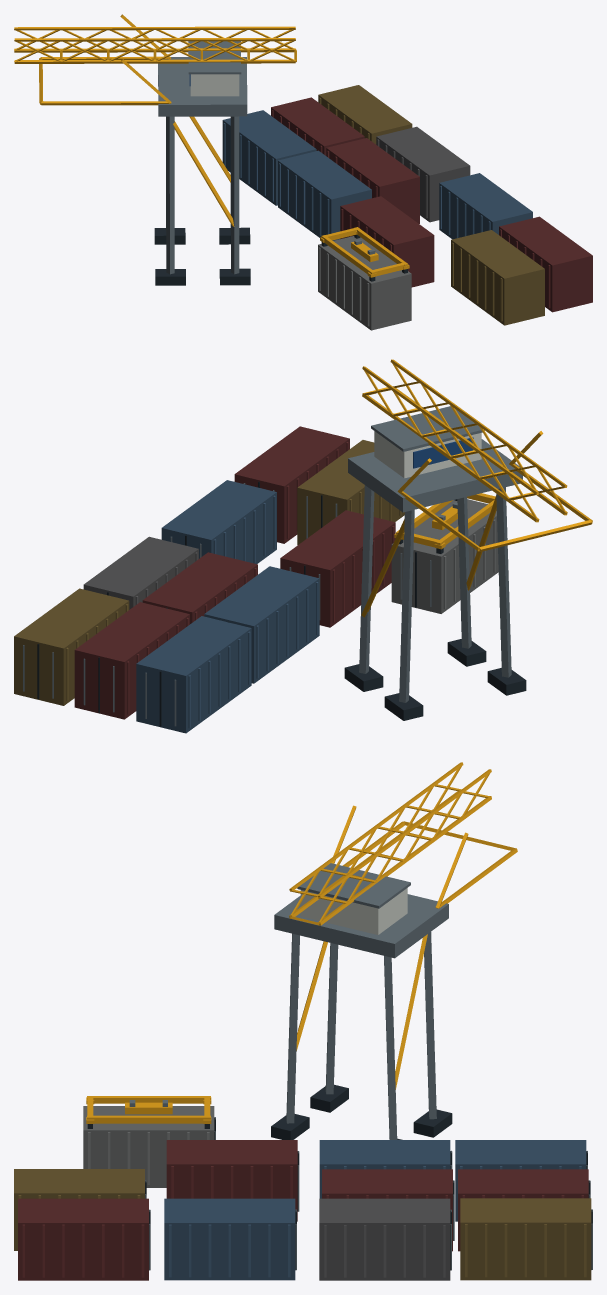
File: gantry-crane-n-s-12.glb
The picture shows the model from 3 angles, top to bottom: view 1: azimuth 30°, elevation 25°; view 2: azimuth 150°, elevation 25°; view 3: azimuth 270°, elevation 25°; orthographic projection. The views are drawn at different scales.
Visible parts, largest first — view 1: gantry-crane-n-s-12; view 2: gantry-crane-n-s-12; view 3: gantry-crane-n-s-12.
Part boxes in pixels (x1,y1,x2,y2): gantry-crane-n-s-12: (14,14,592,330); gantry-crane-n-s-12: (14,359,592,733); gantry-crane-n-s-12: (14,762,592,1280).
Bounding box in the file's own units: 57.07 × 31.18 × 58.38.
